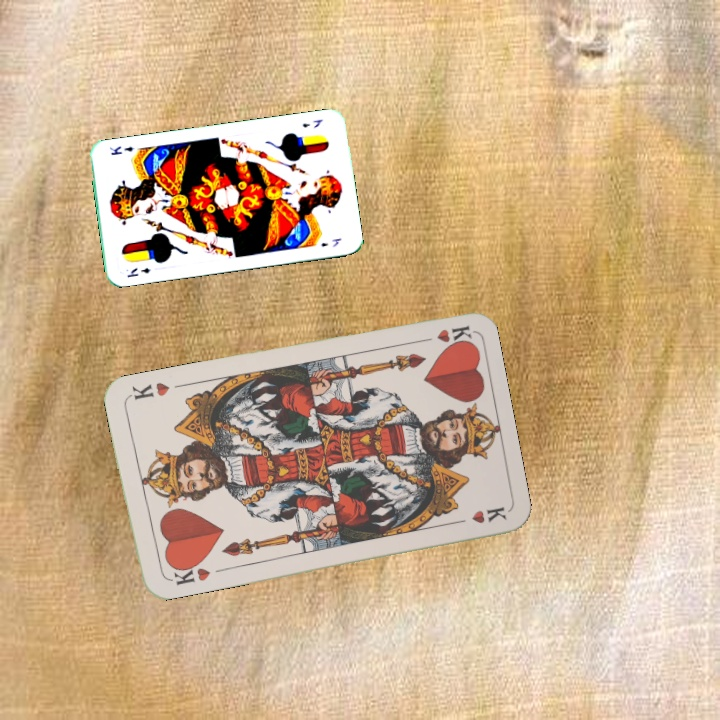EK: (123, 263, 153, 280), (298, 115, 325, 130)
HK: (413, 321, 473, 348), (163, 557, 213, 587)
